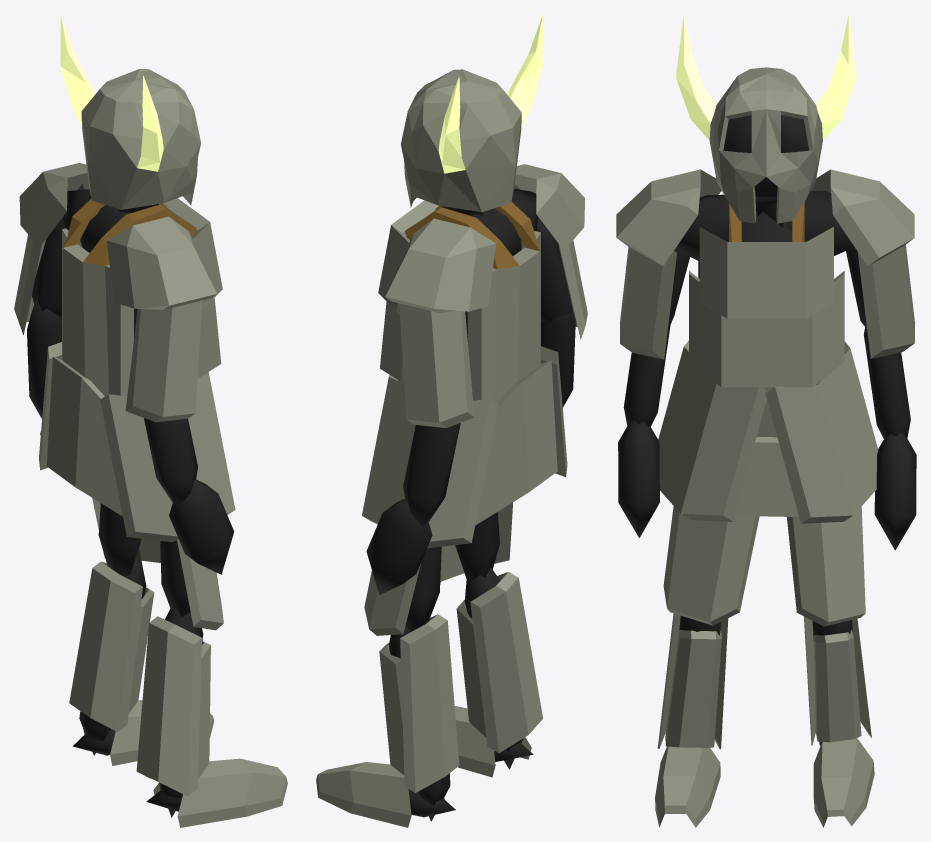
File: knightStanding.fbx
3 renders of one model, left to right at view 1: azimuth 30°, elevation 25°; view 2: azimuth 150°, elevation 25°; view 3: azimuth 270°, elevation 25°, orthographic.
Parts seen in each view (by area): view 1: Cube, Plane, Icosphere.011, Icosphere.010, Plane.006, Plane.001, Plane.002, Plane.007, Icosphere.014, Icosphere.006, Plane.008, Icosphere.007 (+9 smaller); view 2: Cube, Plane, Icosphere.011, Icosphere.010, Plane.005, Plane.007, Plane.003, Plane.004, Icosphere.013, Icosphere.009, Icosphere.008, Icosphere.005 (+9 smaller); view 3: Plane, Cube, Plane.005, Plane.006, Plane.008, Icosphere.011, Icosphere.009, Icosphere.010, Plane.001, Plane.004, Plane.002, Plane.003 (+12 smaller).
Part boxes in pixels (left/top/right/bottom): Cube: left=60, top=14, right=200, bottom=209; Plane: left=62, top=198, right=222, bottom=396; Icosphere.011: left=136, top=608, right=210, bottom=796; Icosphere.010: left=69, top=549, right=154, bottom=731; Plane.006: left=100, top=372, right=235, bottom=542; Plane.001: left=106, top=216, right=216, bottom=309; Plane.002: left=125, top=300, right=202, bottom=422; Plane.007: left=47, top=357, right=122, bottom=516; Icosphere.014: left=146, top=758, right=287, bottom=827; Icosphere.006: left=169, top=479, right=234, bottom=574; Plane.008: left=160, top=539, right=223, bottom=630; Icosphere.007: left=144, top=418, right=197, bottom=507; Cube: left=401, top=14, right=542, bottom=212; Plane: left=378, top=200, right=540, bottom=402; Icosphere.011: left=456, top=568, right=542, bottom=752; Icosphere.010: left=379, top=614, right=459, bottom=792; Plane.005: left=362, top=375, right=498, bottom=548; Plane.007: left=475, top=360, right=557, bottom=525; Plane.003: left=399, top=303, right=474, bottom=427; Plane.004: left=385, top=218, right=495, bottom=312; Icosphere.013: left=316, top=762, right=455, bottom=827; Icosphere.009: left=364, top=546, right=441, bottom=635; Icosphere.008: left=366, top=499, right=432, bottom=594; Icosphere.005: left=403, top=423, right=460, bottom=527; Plane: left=689, top=202, right=844, bottom=437; Cube: left=676, top=14, right=856, bottom=223; Plane.005: left=765, top=341, right=878, bottom=523; Plane.006: left=658, top=340, right=767, bottom=521; Plane.008: left=663, top=506, right=759, bottom=625; Icosphere.011: left=657, top=613, right=728, bottom=749; Icosphere.009: left=787, top=507, right=865, bottom=626; Icosphere.010: left=804, top=616, right=871, bottom=745; Plane.001: left=616, top=169, right=721, bottom=266; Plane.004: left=811, top=169, right=914, bottom=265; Plane.002: left=620, top=247, right=676, bottom=359; Plane.003: left=857, top=244, right=914, bottom=358.
Size of the model in its own units: 146 by 566 by 205.
